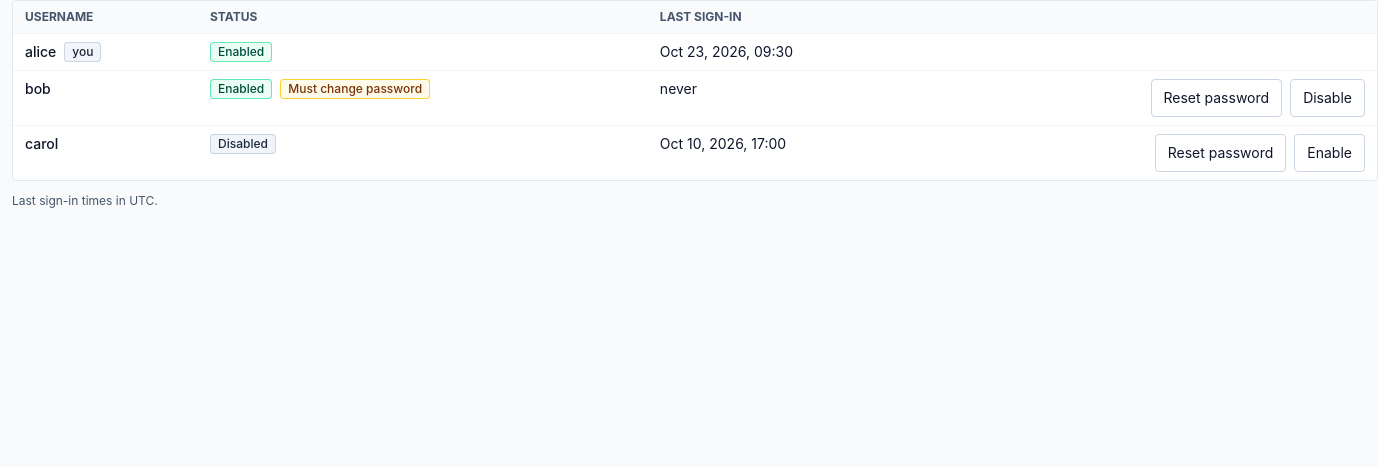
Test case: OperatorsTable: enable › enables a disabled account with the current password
This screenshot has width=1378, height=467.
Click the button with aria-label "Enable carol": (1330, 153) top-left (1294, 134), bottom-right (1365, 172)
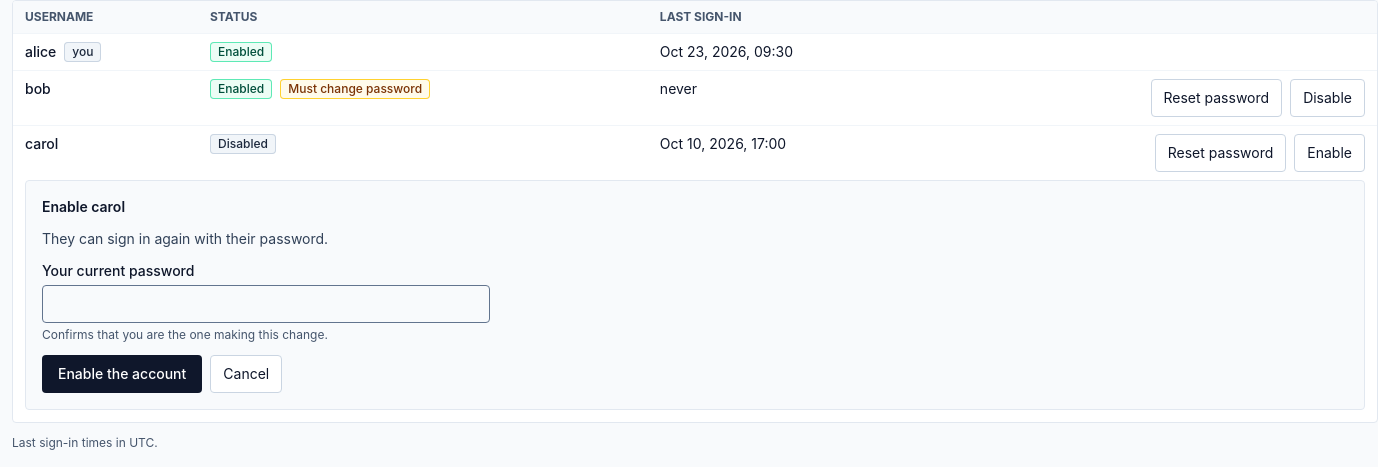
Now the element "Enable carol" shows "They can sign in again with their password.", box top-left (42, 230), bottom-right (328, 247)
In the password field labelled "Your current password": (266, 304) top-left (42, 285), bottom-right (490, 323), type "my current password"
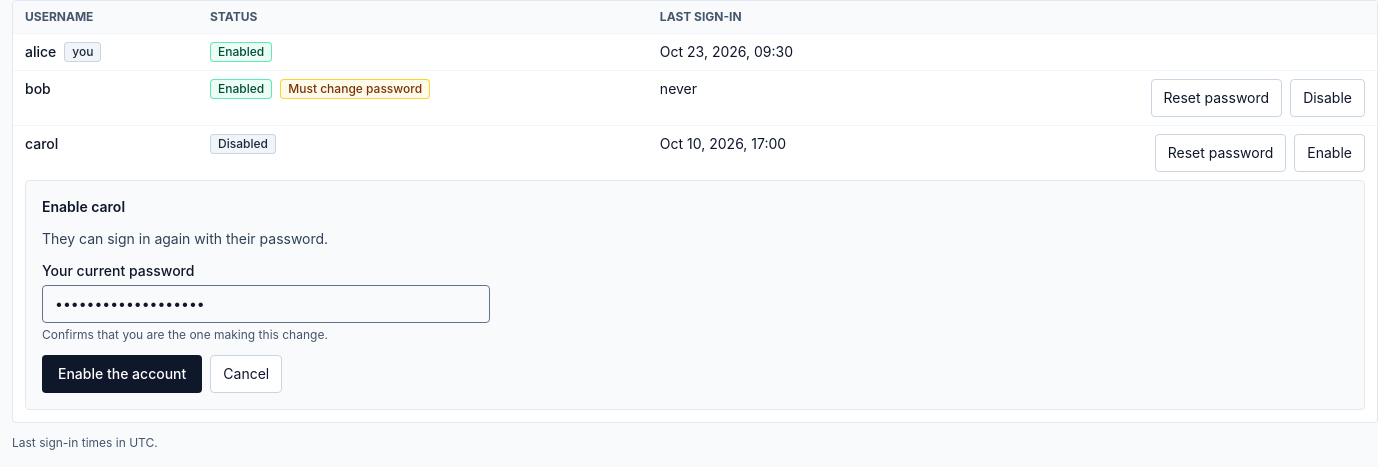
Click the button "Enable the account": (122, 374) top-left (42, 355), bottom-right (202, 393)
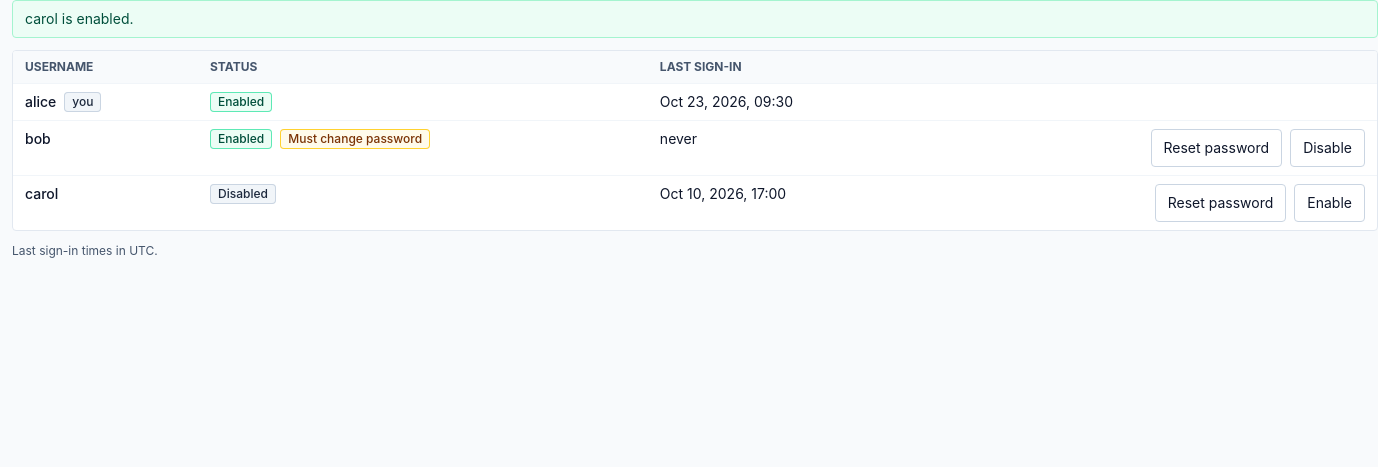
Now the message reads "carol is enabled.", box top-left (25, 10), bottom-right (134, 27)
